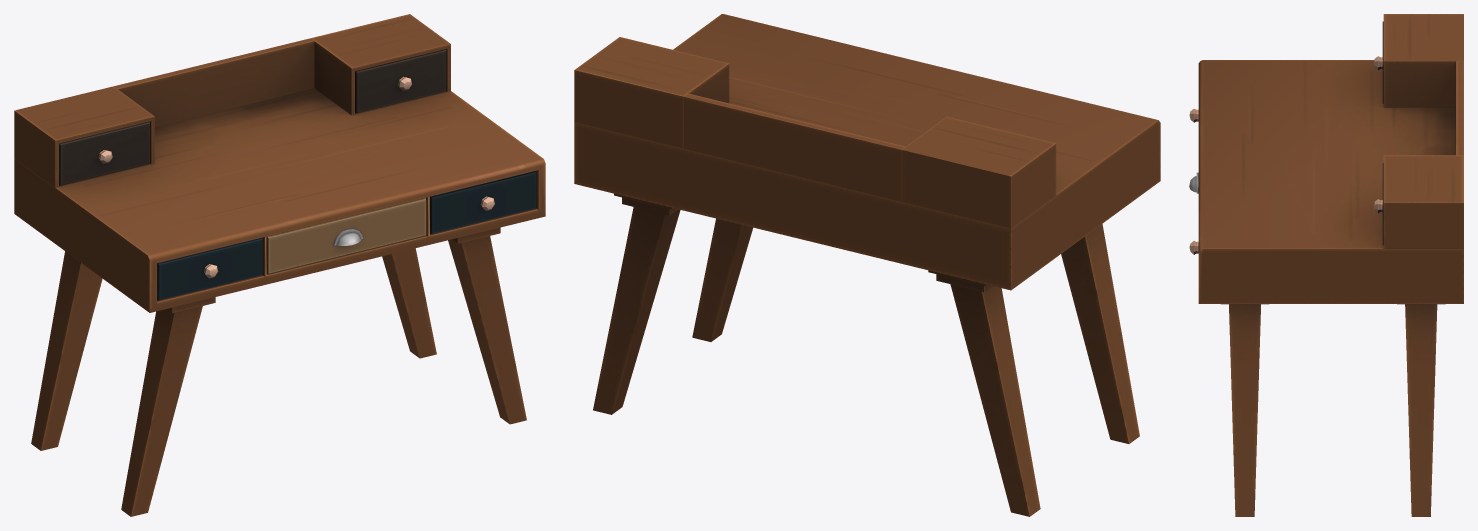
The model's file is StudyDesk.fbx.
The picture shows the model from 3 angles, left to right: view 1: azimuth 30°, elevation 25°; view 2: azimuth 150°, elevation 25°; view 3: azimuth 270°, elevation 25°; orthographic projection. The views are drawn at different scales.
Visible parts, largest first — view 1: StudyDesk; view 2: StudyDesk; view 3: StudyDesk.
Part boxes in pixels (x1,y1,x2,y2): StudyDesk: (14, 14, 545, 516); StudyDesk: (574, 14, 1160, 516); StudyDesk: (1189, 14, 1463, 516).
Bounding box in the file's own units: 110 × 67.59 × 85.18.
